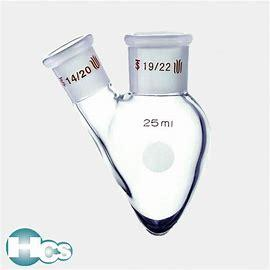Pear shaped flask: (32, 31, 206, 233)
